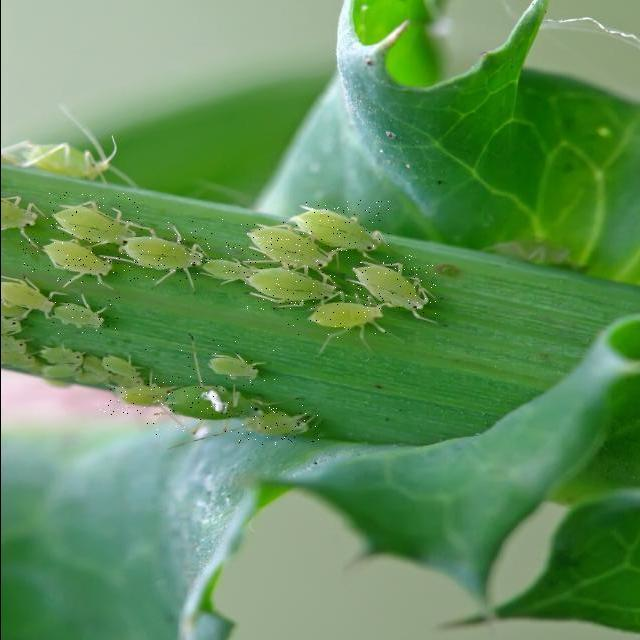aphid: (220, 216, 322, 280), (345, 251, 439, 318), (146, 375, 250, 435), (115, 221, 211, 281), (296, 200, 388, 256), (284, 290, 386, 340), (46, 191, 138, 246), (180, 340, 276, 387), (19, 239, 117, 284), (244, 266, 341, 311), (237, 404, 330, 445), (50, 296, 119, 334), (97, 380, 163, 417), (88, 349, 146, 387)
